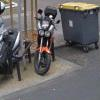Motorcycle: (31, 6, 62, 80)
